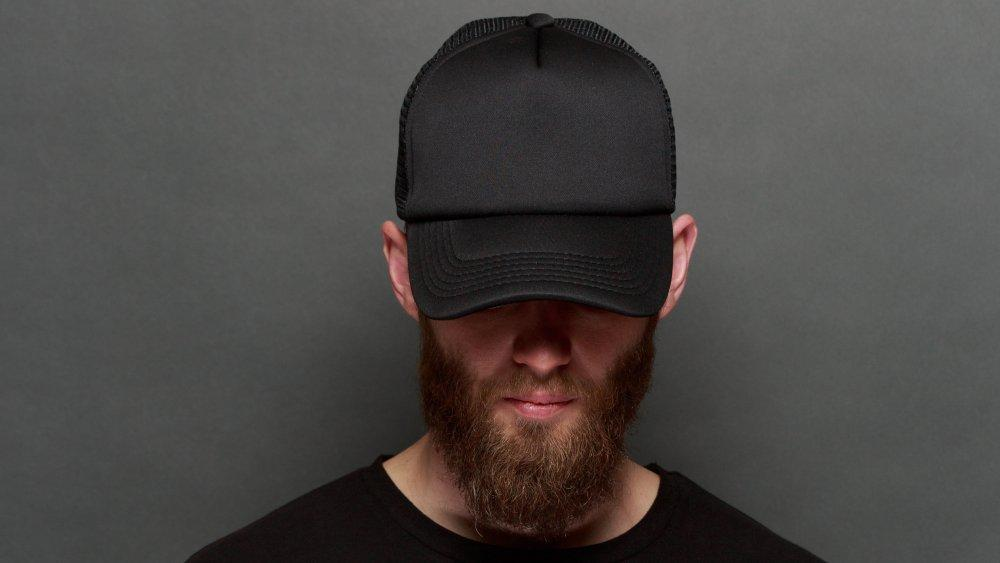cap: (393, 0, 686, 339)
